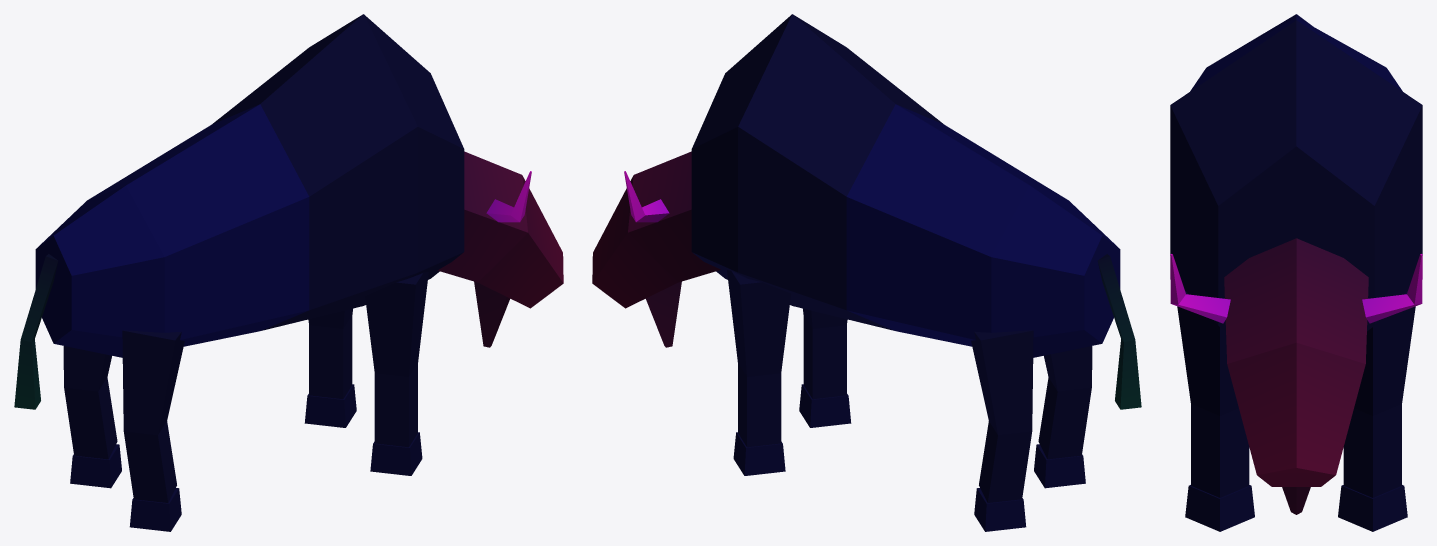
Rendered from ns-bison-b.glb.
3 renders of one model, left to right at view 1: azimuth 30°, elevation 25°; view 2: azimuth 150°, elevation 25°; view 3: azimuth 270°, elevation 25°, orthographic. The views are drawn at different scales.
Parts seen in each view (by area): view 1: Sculpted silhouette, Sculpted silhouette.001, Tapered form.008, Tapered form.006, Tapered form.002, Tapered form.004, Tapered form, Tapered form.012, Tapered form.007, Tapered form.005, Tapered form.001, Tapered form.003 (+2 smaller); view 2: Sculpted silhouette, Sculpted silhouette.001, Tapered form.008, Tapered form.004, Tapered form, Tapered form.006, Tapered form.002, Tapered form.012, Tapered form.005, Tapered form.007, Tapered form.003, Tapered form.001 (+2 smaller); view 3: Sculpted silhouette.001, Tapered form.008, Tapered form, Tapered form.002, Tapered form.001, Tapered form.003, Sculpted silhouette, Tapered form.010, Tapered form.011, Tapered form.009.
Part boxes in pixels (x1,y1,x2,y2): Sculpted silhouette: [35, 104, 309, 357]; Sculpted silhouette.001: [212, 14, 464, 330]; Tapered form.008: [437, 151, 563, 308]; Tapered form.006: [122, 330, 184, 502]; Tapered form.002: [365, 272, 428, 447]; Tapered form.004: [63, 346, 117, 459]; Tapered form: [308, 308, 352, 399]; Tapered form.012: [14, 254, 58, 409]; Tapered form.007: [129, 488, 181, 531]; Tapered form.005: [70, 444, 121, 488]; Tapered form.001: [304, 384, 356, 427]; Tapered form.003: [370, 432, 422, 475]; Sculpted silhouette: [846, 104, 1120, 357]; Sculpted silhouette.001: [691, 14, 943, 330]; Tapered form.008: [592, 151, 720, 308]; Tapered form.004: [971, 330, 1033, 502]; Tapered form: [727, 269, 791, 447]; Tapered form.006: [1038, 346, 1092, 459]; Tapered form.002: [803, 308, 847, 399]; Tapered form.012: [1097, 254, 1141, 409]; Tapered form.005: [974, 488, 1026, 531]; Tapered form.007: [1034, 444, 1085, 488]; Tapered form.003: [799, 384, 851, 427]; Tapered form.001: [733, 432, 785, 475]; Sculpted silhouette.001: [1170, 20, 1422, 331]; Tapered form.008: [1224, 238, 1368, 486]; Tapered form: [1343, 291, 1415, 497]; Tapered form.002: [1177, 291, 1249, 497]; Tapered form.001: [1338, 485, 1407, 531]; Tapered form.003: [1185, 485, 1254, 531]; Sculpted silhouette: [1190, 14, 1402, 91]; Tapered form.010: [1170, 254, 1230, 323]; Tapered form.011: [1362, 254, 1422, 323]; Tapered form.009: [1282, 487, 1310, 514].
Bounding box in the file's own units: 0.8497 × 0.632 × 0.2912.
